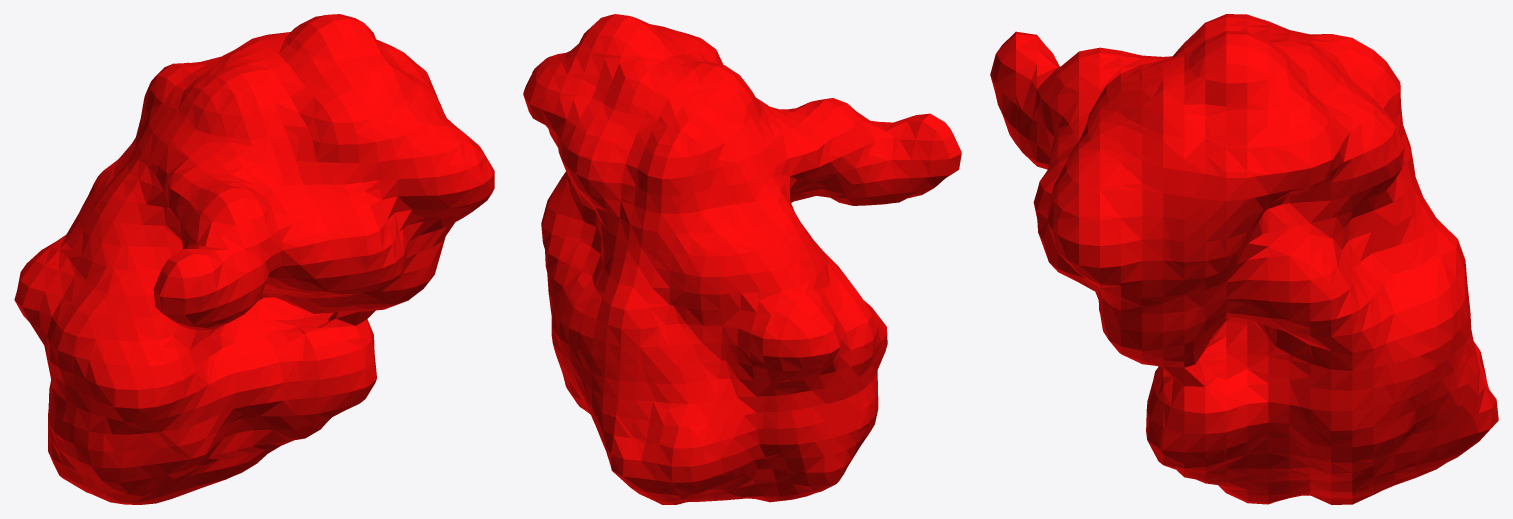
File: lysA_coarse.dae
3 renders of one model, left to right at view 1: azimuth 30°, elevation 25°; view 2: azimuth 150°, elevation 25°; view 3: azimuth 270°, elevation 25°, orthographic. The views are drawn at different scales.
Parts seen in each view (by area): view 1: lysA; view 2: lysA; view 3: lysA.
Boxes of the visible parts, <box> form: lysA: <box>14,14,494,504</box>; lysA: <box>523,14,961,504</box>; lysA: <box>990,14,1498,504</box>.
Size of the model in its own units: 60.49 by 70.6 by 60.51.
